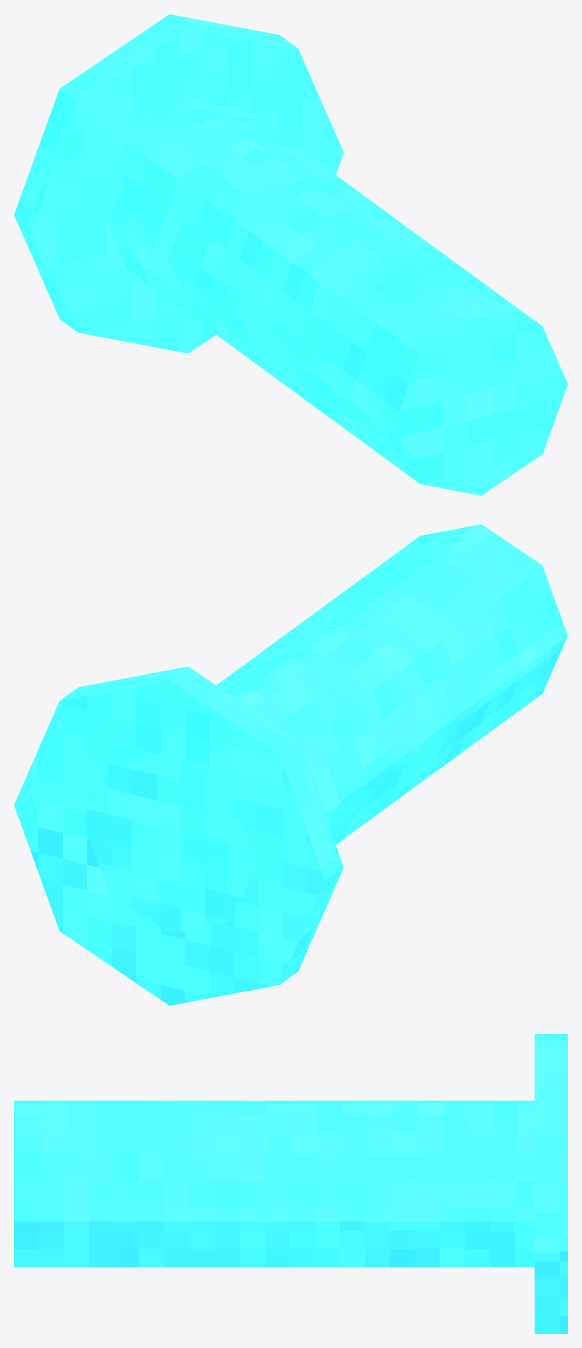
File: fx_kbeam_w.glb
3 views of the same model, one above another, from view 1: azimuth 30°, elevation 25°; view 2: azimuth 150°, elevation 25°; view 3: azimuth 270°, elevation 25° (orthographic). The views are drawn at different scales.
Parts seen in each view (by area): view 1: fx_kbeam_w; view 2: fx_kbeam_w; view 3: fx_kbeam_w.
Part boxes in pixels (x1,y1,x2,y2): fx_kbeam_w: (14,14,567,495); fx_kbeam_w: (14,524,567,1005); fx_kbeam_w: (14,1034,567,1333).
Size of the model in its own units: 0.576 by 0.576 by 1.
Materials: 1 (1 with a texture image).
